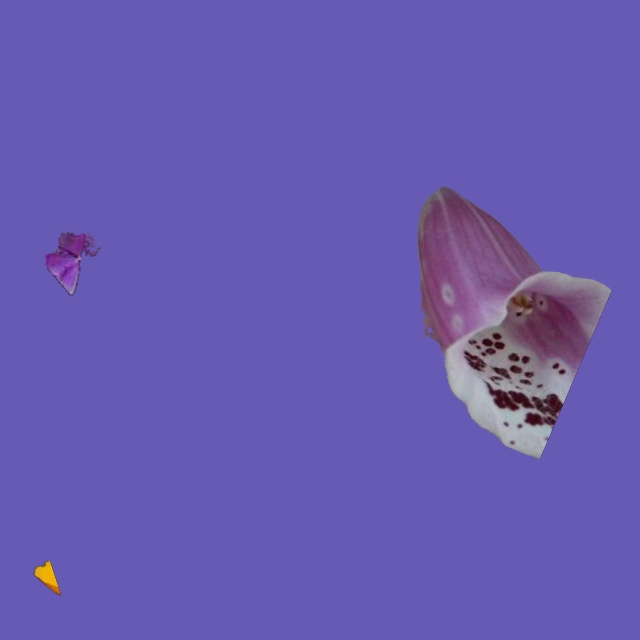butterfly flower: (45, 232, 99, 294)
foxglove: (417, 186, 611, 458)
wallflower: (34, 561, 60, 595)
